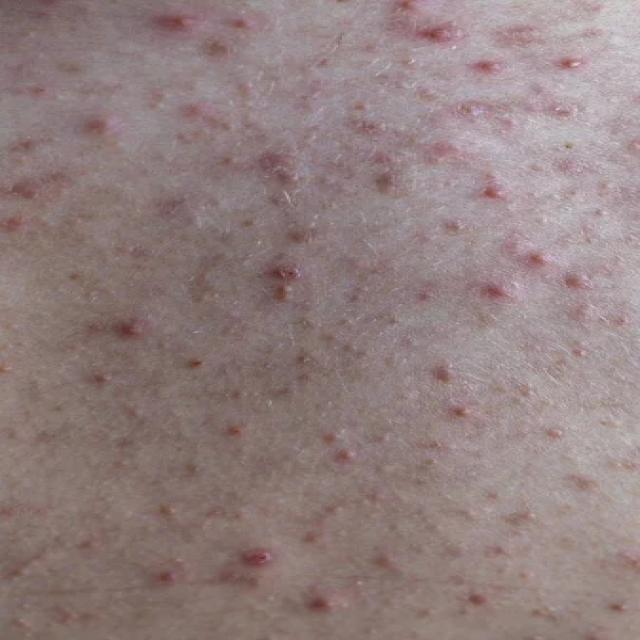Rosacea: (22, 16, 638, 640)
